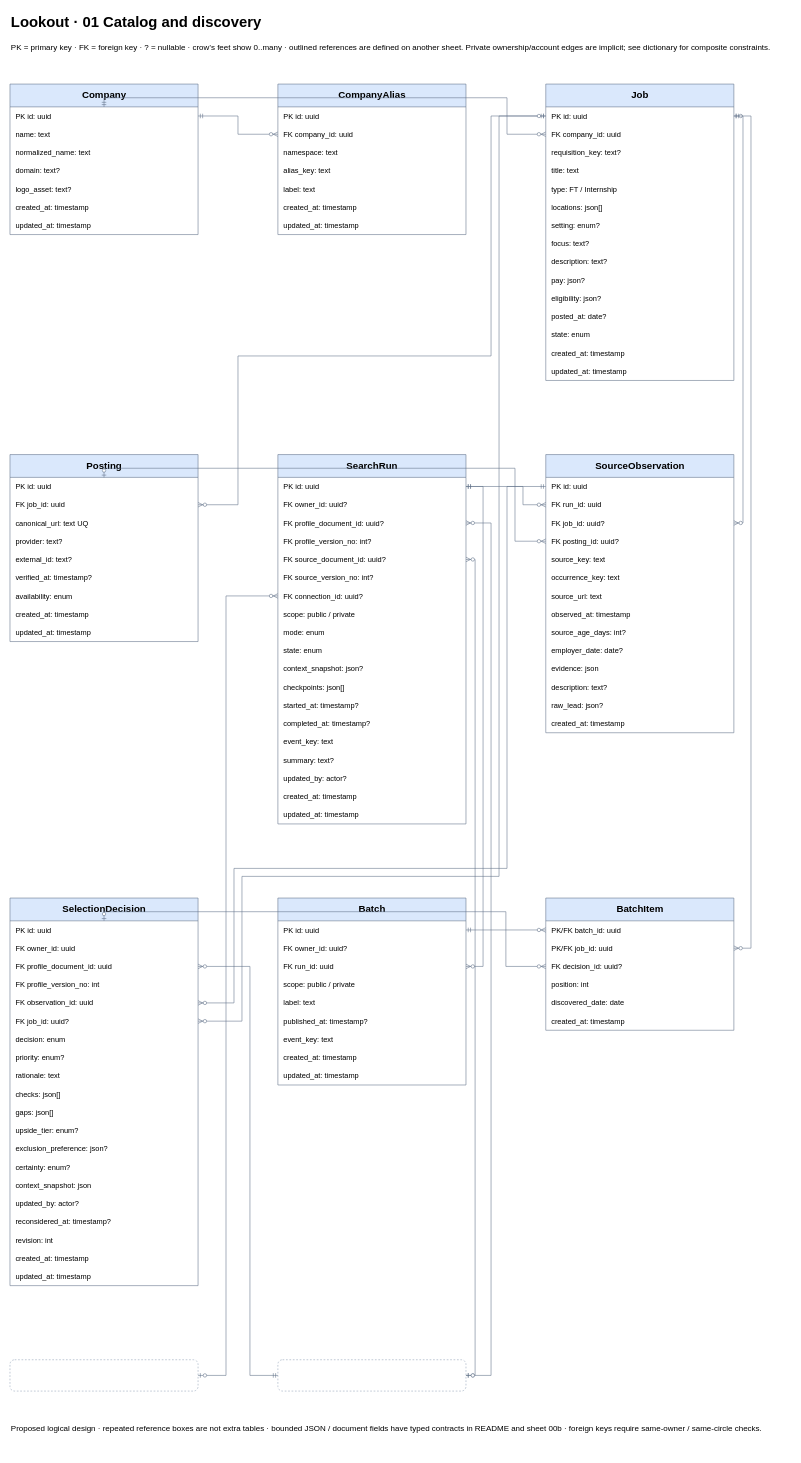
Image size: 801x1463. Some labels were removed from this diagram. The centre of each missing label's shape, as x and y in pixels:
↗ AgentConnection: [103,1375]
↗ DocumentVersion: [371,1375]
